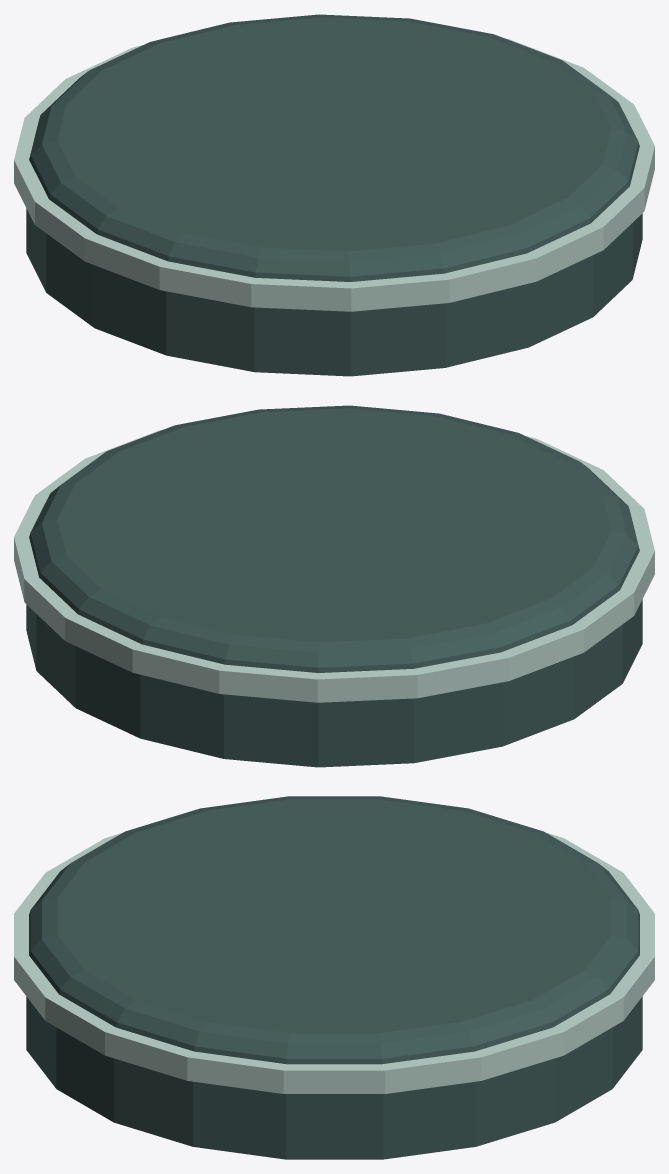
Rendered from Plate_LatchBase.gltf.
3 renders of one model, top to bottom at view 1: azimuth 30°, elevation 25°; view 2: azimuth 150°, elevation 25°; view 3: azimuth 270°, elevation 25°, orthographic.
Visible parts, largest first — view 1: Plate_LatchBase_baked; view 2: Plate_LatchBase_baked; view 3: Plate_LatchBase_baked.
Part boxes in pixels (x1,y1,x2,y2): Plate_LatchBase_baked: (14,14,654,376); Plate_LatchBase_baked: (14,405,654,767); Plate_LatchBase_baked: (14,796,654,1159).
Size of the model in its own units: 0.6163 by 0.12 by 0.6163.
